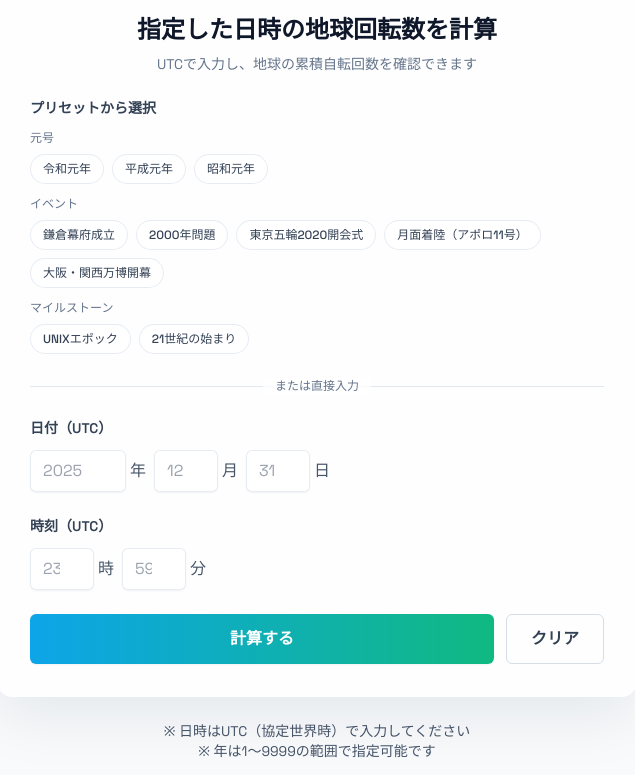
Test: DateTimeInput › プリセット機能 › 別のプリセットを選択すると入力値が更新されること
Note:  令和元年を選択
Click the button with aria-label "令和元年を選択" at (67,169), box left=30, top=154, right=104, bottom=184
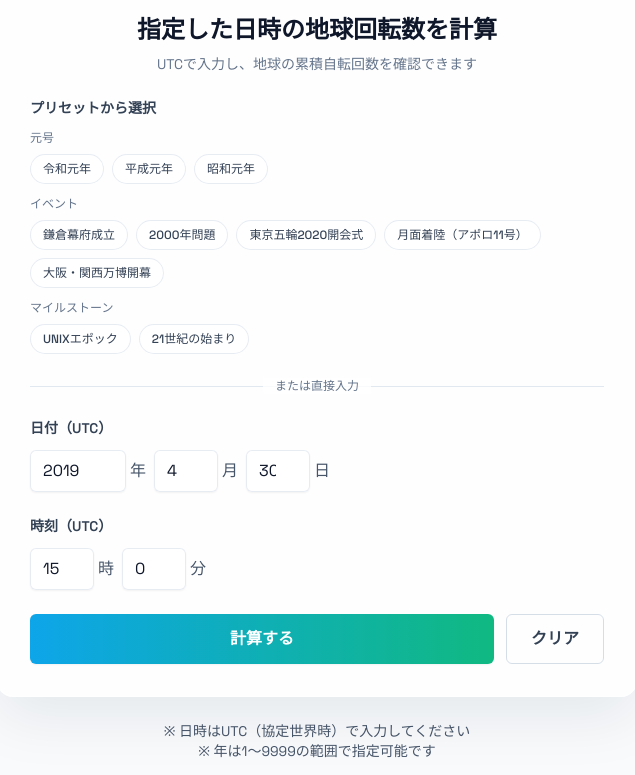
Note: UNIXエポックを選択（1970年1月1日 00:00 UTC）
Click the button with aria-label "UNIXエポックを選択" at (80,339), box left=30, top=324, right=131, bottom=354
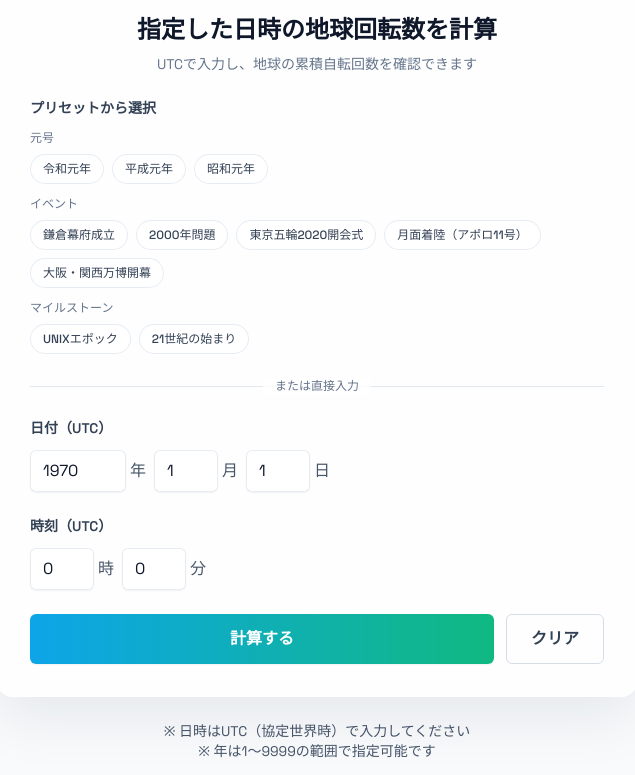
Result: the field named "年" holds "1970" at left=30, top=450, right=126, bottom=492
Result: the field named "月" holds "1" at left=154, top=450, right=218, bottom=492
Result: the field named "日" holds "1" at left=246, top=450, right=310, bottom=492
